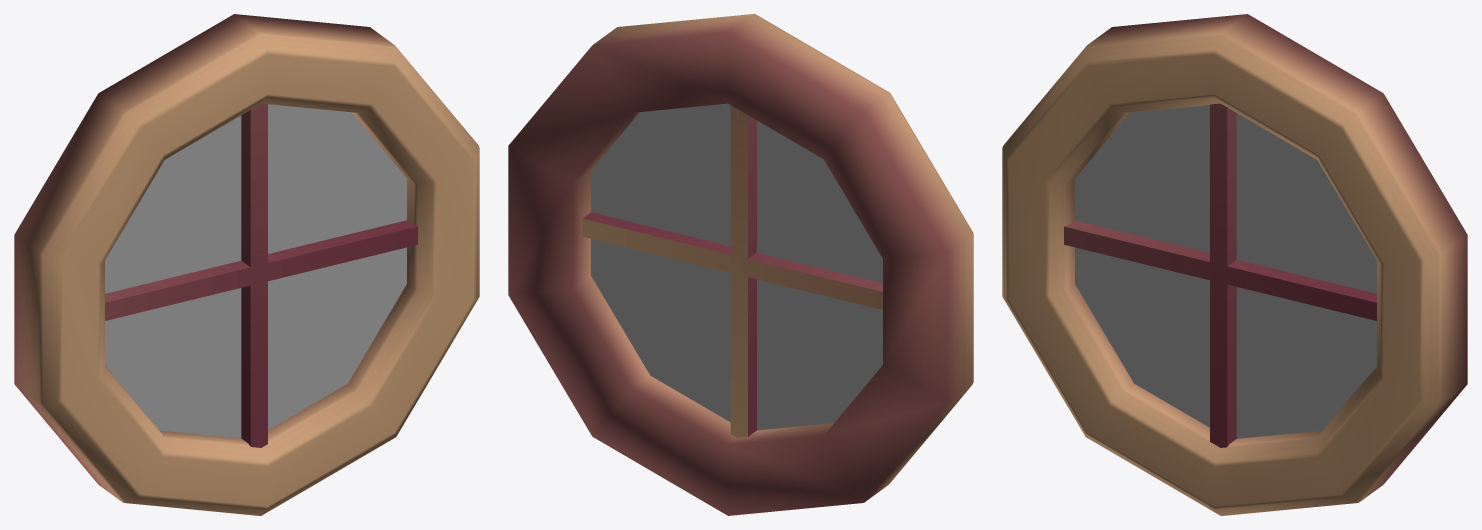
Rendered from Window_01.fbx.
3 views of the same model, side by side, from view 1: azimuth 30°, elevation 25°; view 2: azimuth 150°, elevation 25°; view 3: azimuth 330°, elevation 25° (orthographic).
Visible parts, largest first — view 1: Window_01; view 2: Window_01; view 3: Window_01.
Part boxes in pixels (x1,y1,x2,y2): Window_01: (14, 14, 479, 515); Window_01: (508, 14, 973, 515); Window_01: (1002, 14, 1467, 515).
Size of the model in its own units: 1.61 by 1.7 by 0.2137.
Materials: 2 (1 with a texture image).
